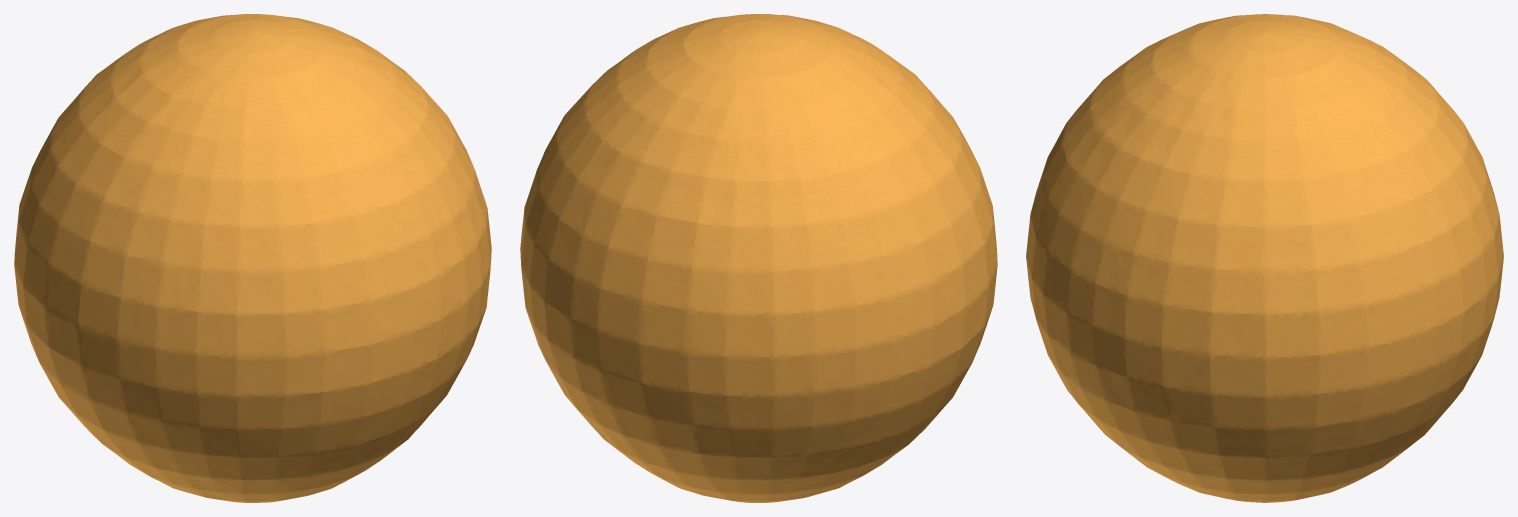
File: sun-model.glb
The picture shows the model from 3 angles, left to right: view 1: azimuth 30°, elevation 25°; view 2: azimuth 150°, elevation 25°; view 3: azimuth 270°, elevation 25°; orthographic projection.
Visible parts, largest first — view 1: tripo_node_631f1771-9345-4993-b0c6-f16ba669b3bf; view 2: tripo_node_631f1771-9345-4993-b0c6-f16ba669b3bf; view 3: tripo_node_631f1771-9345-4993-b0c6-f16ba669b3bf.
Boxes of the visible parts, x1=… form: tripo_node_631f1771-9345-4993-b0c6-f16ba669b3bf: x1=14, y1=14, x2=491, y2=502; tripo_node_631f1771-9345-4993-b0c6-f16ba669b3bf: x1=520, y1=14, x2=997, y2=502; tripo_node_631f1771-9345-4993-b0c6-f16ba669b3bf: x1=1026, y1=14, x2=1503, y2=502.
Size of the model in its own units: 0.9617 by 1 by 0.9594.
1 material, 1 textured.
